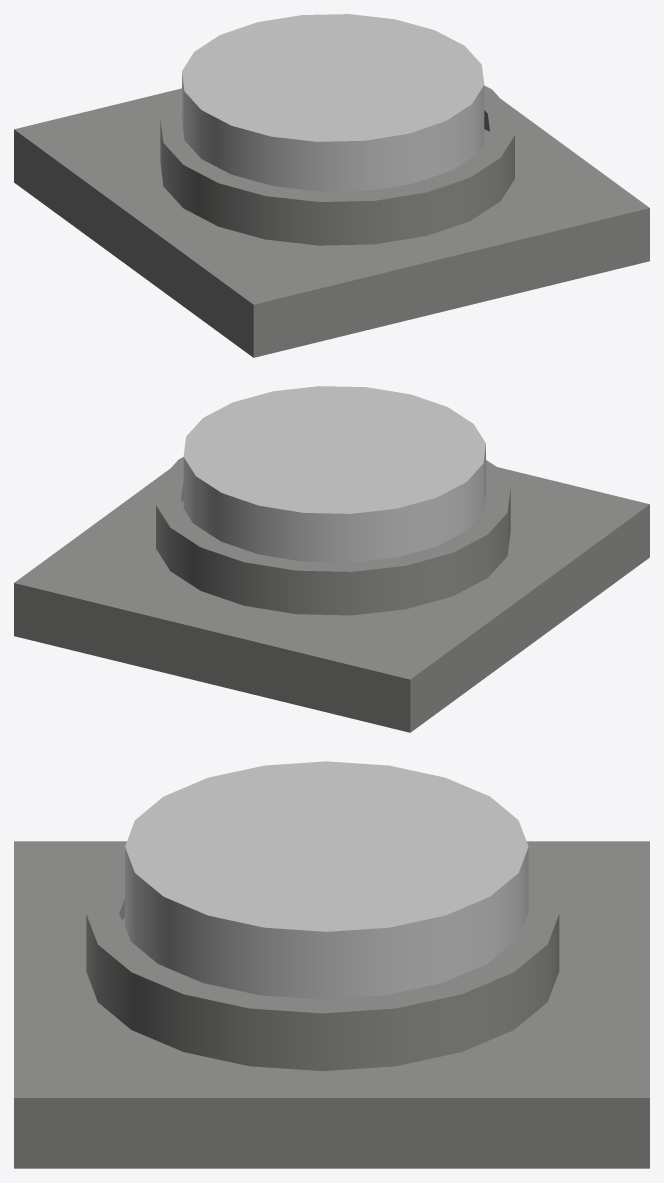
File: Blue_Button_Animated.fbx
3 renders of one model, top to bottom at view 1: azimuth 30°, elevation 25°; view 2: azimuth 150°, elevation 25°; view 3: azimuth 270°, elevation 25°, orthographic. The views are drawn at different scales.
Visible parts, largest first — view 1: pCube3621, pCylinder15; view 2: pCube3621, pCylinder15; view 3: pCube3621, pCylinder15.
Boxes of the visible parts, x1=… form: pCube3621: x1=14, y1=85, x2=649, y2=357; pCylinder15: x1=182, y1=14, x2=484, y2=191; pCube3621: x1=14, y1=457, x2=649, y2=732; pCylinder15: x1=183, y1=386, x2=485, y2=562; pCube3621: x1=14, y1=841, x2=649, y2=1168; pCylinder15: x1=125, y1=761, x2=528, y2=999.
Bounding box in the file's own units: 0.7297 × 0.2561 × 0.7642.
